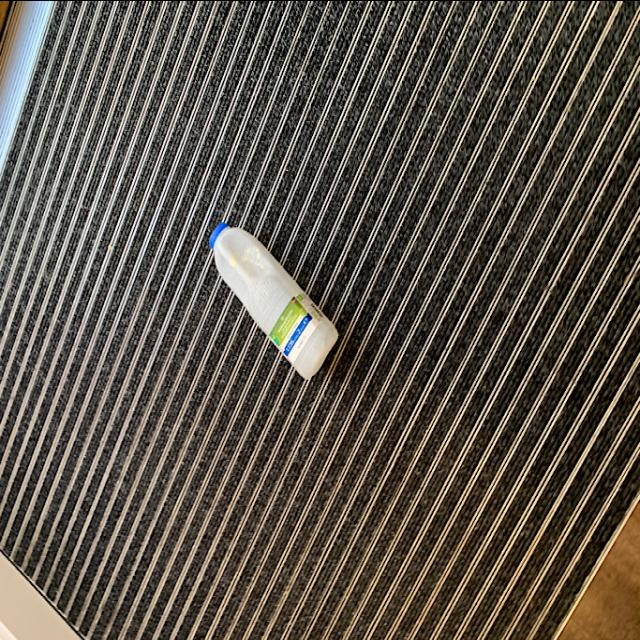HDPEM: (210, 222, 340, 380)
